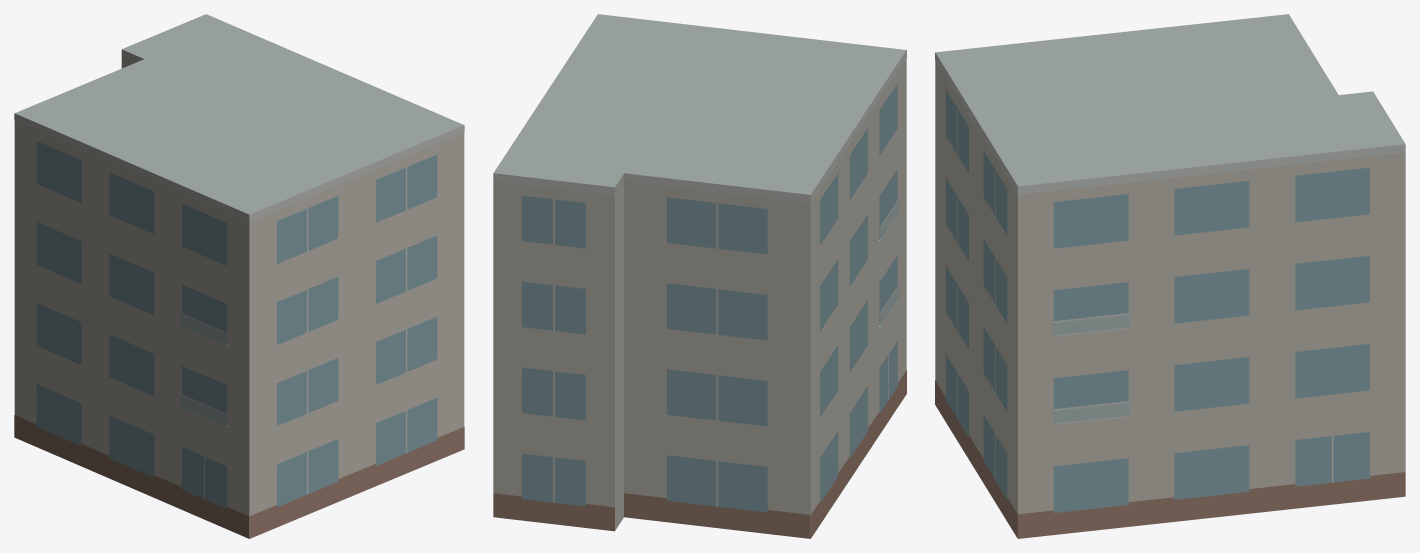
File: survey-upis-32693646.glb
The picture shows the model from 3 angles, left to right: view 1: azimuth 30°, elevation 25°; view 2: azimuth 150°, elevation 25°; view 3: azimuth 270°, elevation 25°; orthographic projection. The views are drawn at different scales.
Visible parts, largest first — view 1: survey-upis-32693646.tmp; view 2: survey-upis-32693646.tmp; view 3: survey-upis-32693646.tmp.
Part boxes in pixels (x1,y1,x2,y2): survey-upis-32693646.tmp: (14,14,464,538); survey-upis-32693646.tmp: (493,14,906,538); survey-upis-32693646.tmp: (935,14,1405,538).
Size of the model in its own units: 10.93 by 10.4 by 12.59.
